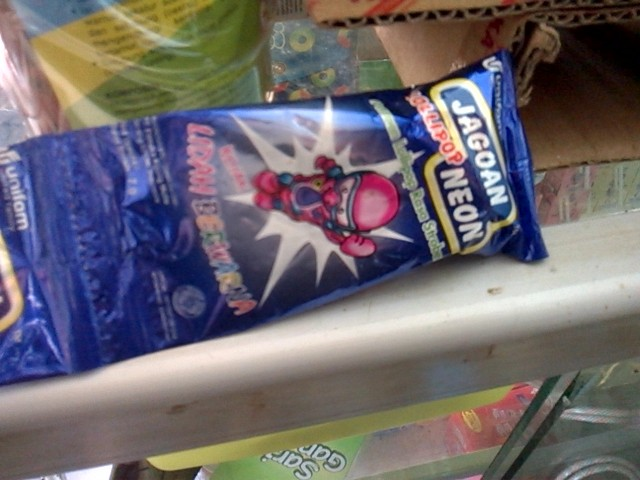jagoan neon: (65, 49, 549, 362)
